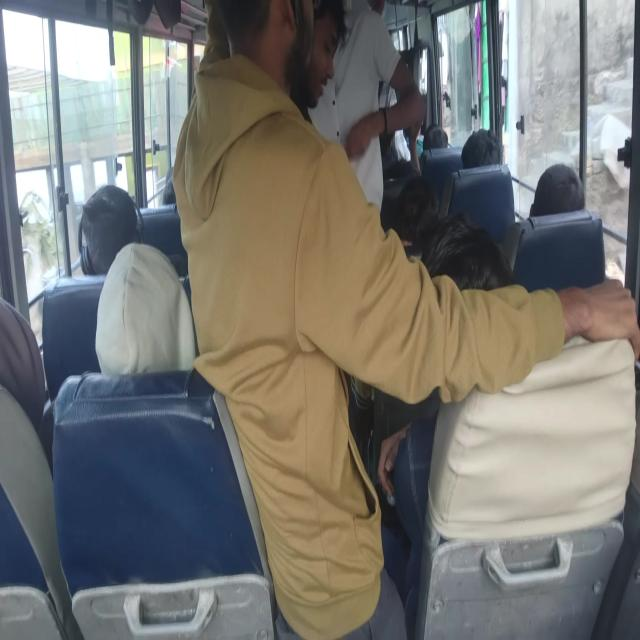person: (301, 0, 390, 210), (200, 0, 305, 130), (428, 226, 522, 336), (96, 250, 187, 352), (275, 0, 331, 106), (366, 41, 408, 165), (0, 299, 50, 400), (82, 189, 138, 254), (540, 162, 598, 224), (160, 177, 207, 225), (404, 191, 444, 229), (461, 134, 495, 174), (422, 118, 457, 156), (383, 132, 412, 177)
